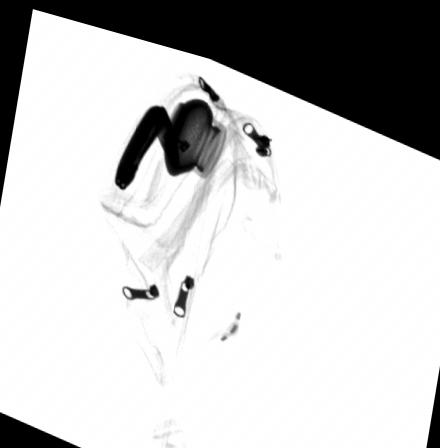Knife: (113, 96, 182, 186)
